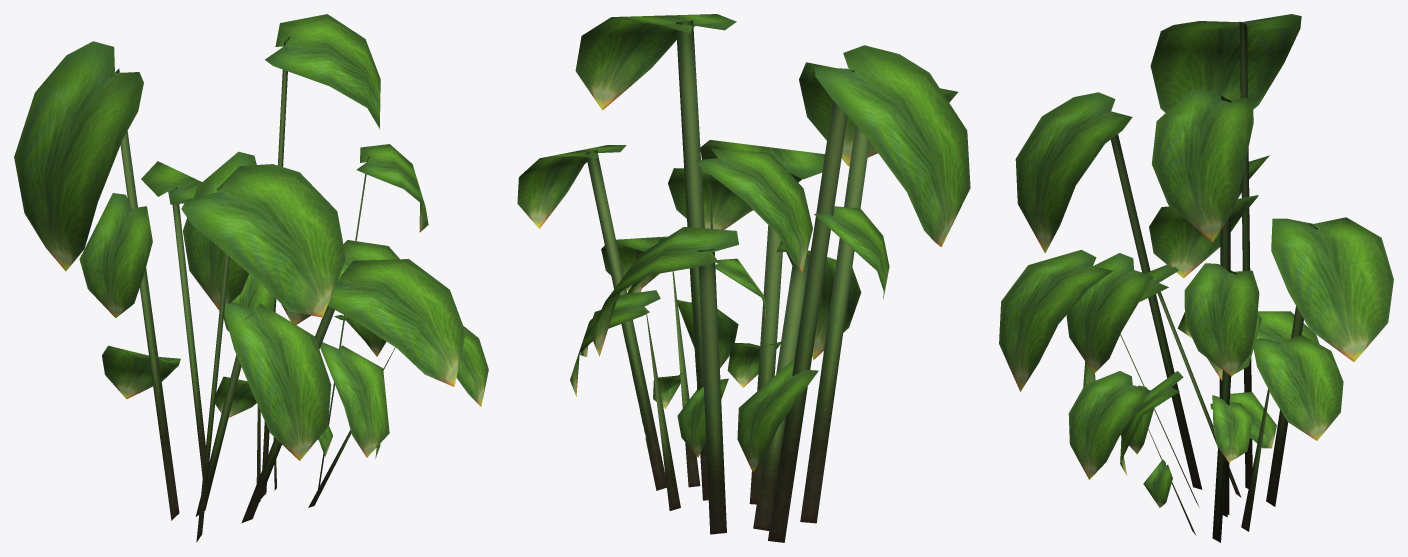
File: leafplant_lod1.fbx
3 views of the same model, side by side, from view 1: azimuth 30°, elevation 25°; view 2: azimuth 150°, elevation 25°; view 3: azimuth 270°, elevation 25° (orthographic). The views are drawn at different scales.
Visible parts, largest first — view 1: Mesh Object; view 2: Mesh Object; view 3: Mesh Object.
Boxes of the visible parts, <box> form: Mesh Object: <box>14,14,488,542</box>; Mesh Object: <box>517,14,970,542</box>; Mesh Object: <box>999,14,1393,542</box>.
Bounding box in the file's own units: 1.62 × 1.89 × 1.5.
